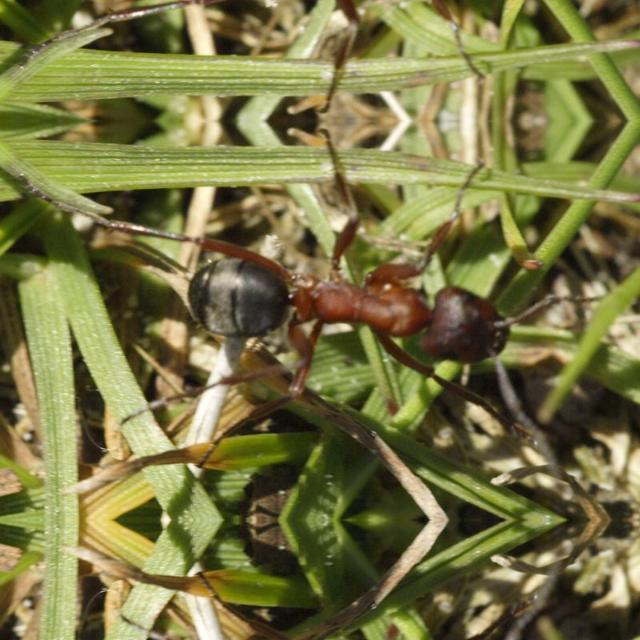Formica: (156, 192, 548, 422), (156, 0, 548, 48)
